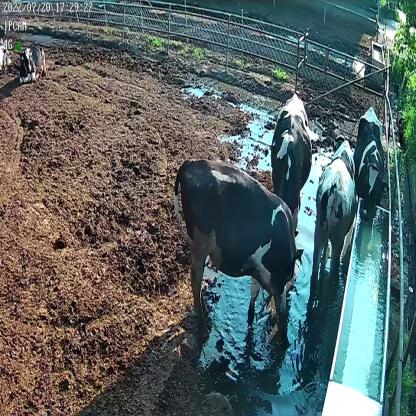cow: (174, 154, 306, 341), (310, 135, 356, 291), (270, 90, 314, 215), (354, 104, 390, 220), (16, 42, 46, 85)
